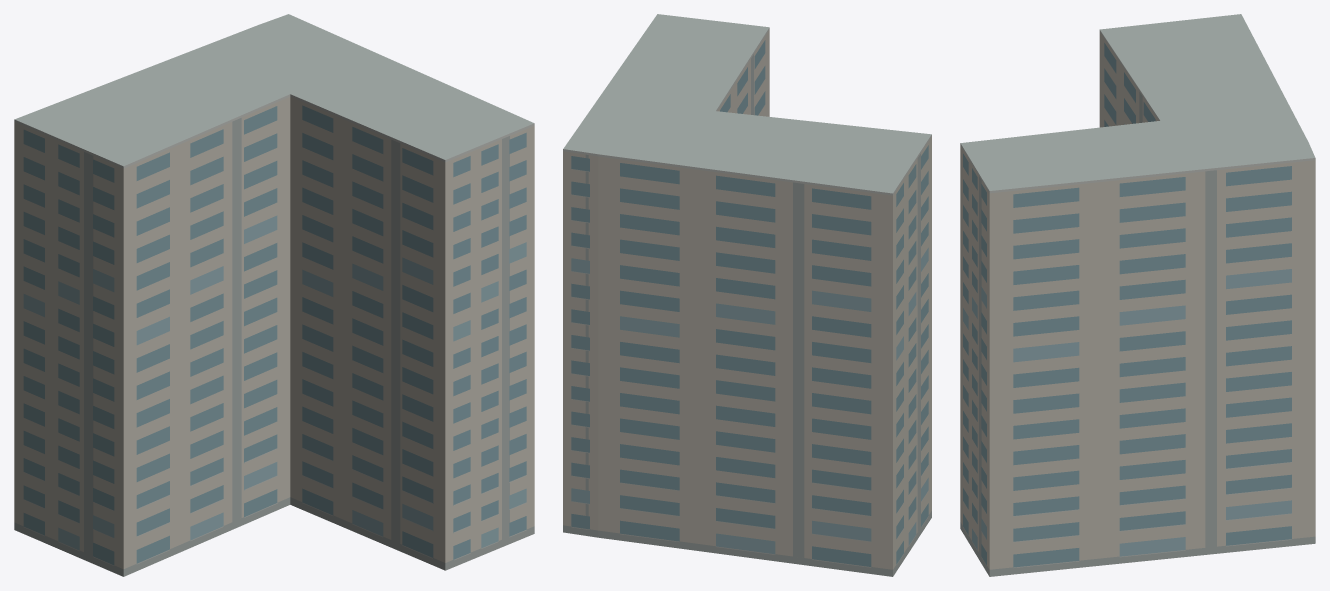
Rendered from residential-c98921e5-8ce7-443b-a872-1293fe839ce2.glb.
3 renders of one model, left to right at view 1: azimuth 30°, elevation 25°; view 2: azimuth 150°, elevation 25°; view 3: azimuth 270°, elevation 25°, orthographic. The views are drawn at different scales.
Visible parts, largest first — view 1: residential-c98921e5-8ce7-443b-a872-1293fe839ce2.tmp; view 2: residential-c98921e5-8ce7-443b-a872-1293fe839ce2.tmp; view 3: residential-c98921e5-8ce7-443b-a872-1293fe839ce2.tmp.
Part boxes in pixels (<box>): residential-c98921e5-8ce7-443b-a872-1293fe839ce2.tmp: <box>14,14,534,576</box>; residential-c98921e5-8ce7-443b-a872-1293fe839ce2.tmp: <box>563,14,931,576</box>; residential-c98921e5-8ce7-443b-a872-1293fe839ce2.tmp: <box>960,14,1315,576</box>.
Bounding box in the file's own units: 41.35 × 42 × 35.03.
